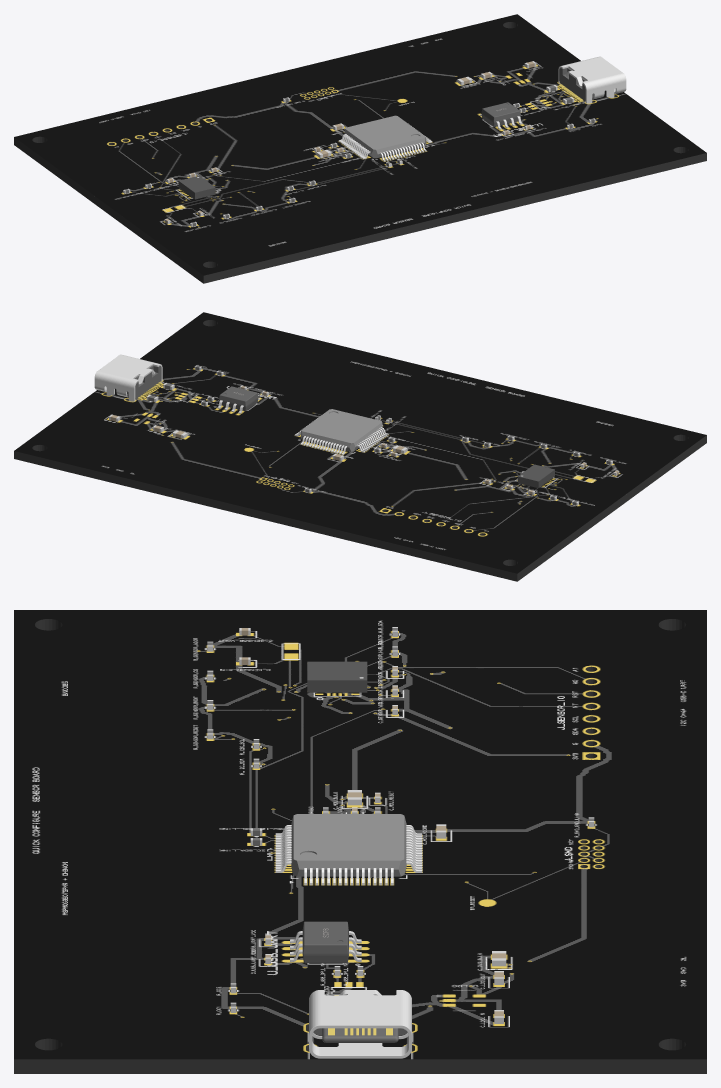
3 views of the same model, one above another, from view 1: azimuth 30°, elevation 25°; view 2: azimuth 150°, elevation 25°; view 3: azimuth 270°, elevation 25° (orthographic). The views are drawn at different scales.
Parts seen in each view (by area): view 1: Box0, U_MAIN, J_USB, U_USB_UART, U_SENSOR; view 2: Box0, U_MAIN, J_USB, U_USB_UART, U_SENSOR; view 3: Box0, U_MAIN, J_USB, U_USB_UART, U_SENSOR.
Boxes of the visible parts, x1,y1,x2,y2 form: Box0: (14,14,706,283); U_MAIN: (338,115,432,161); J_USB: (558,56,626,103); U_USB_UART: (480,102,522,129); U_SENSOR: (178,175,215,199); Box0: (14,312,706,581); U_MAIN: (294,409,388,454); J_USB: (94,354,162,401); U_USB_UART: (217,386,259,413); U_SENSOR: (518,464,554,488); Box0: (14,610,706,1073); U_MAIN: (275,814,422,885); J_USB: (309,990,411,1058); U_USB_UART: (290,921,361,963); U_SENSOR: (307,661,367,692).
Bounding box in the file's own units: 92.04 × 4.65 × 60.
19 materials, 2 textured.
